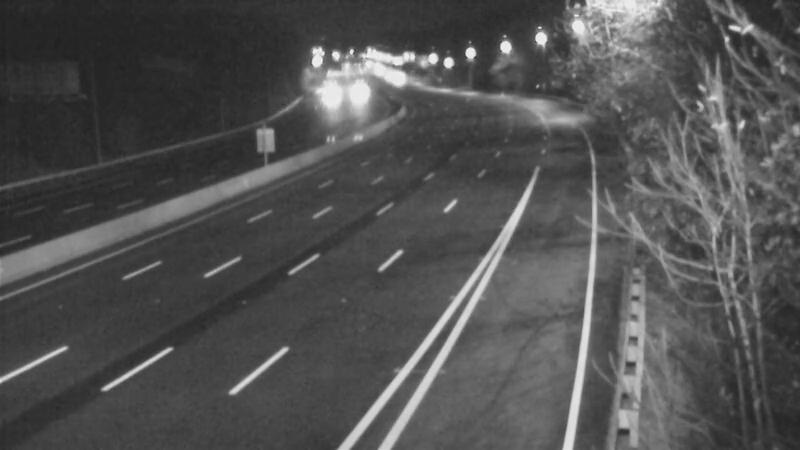vehicle: (368, 51, 418, 101), (310, 59, 360, 109), (332, 70, 382, 120)
